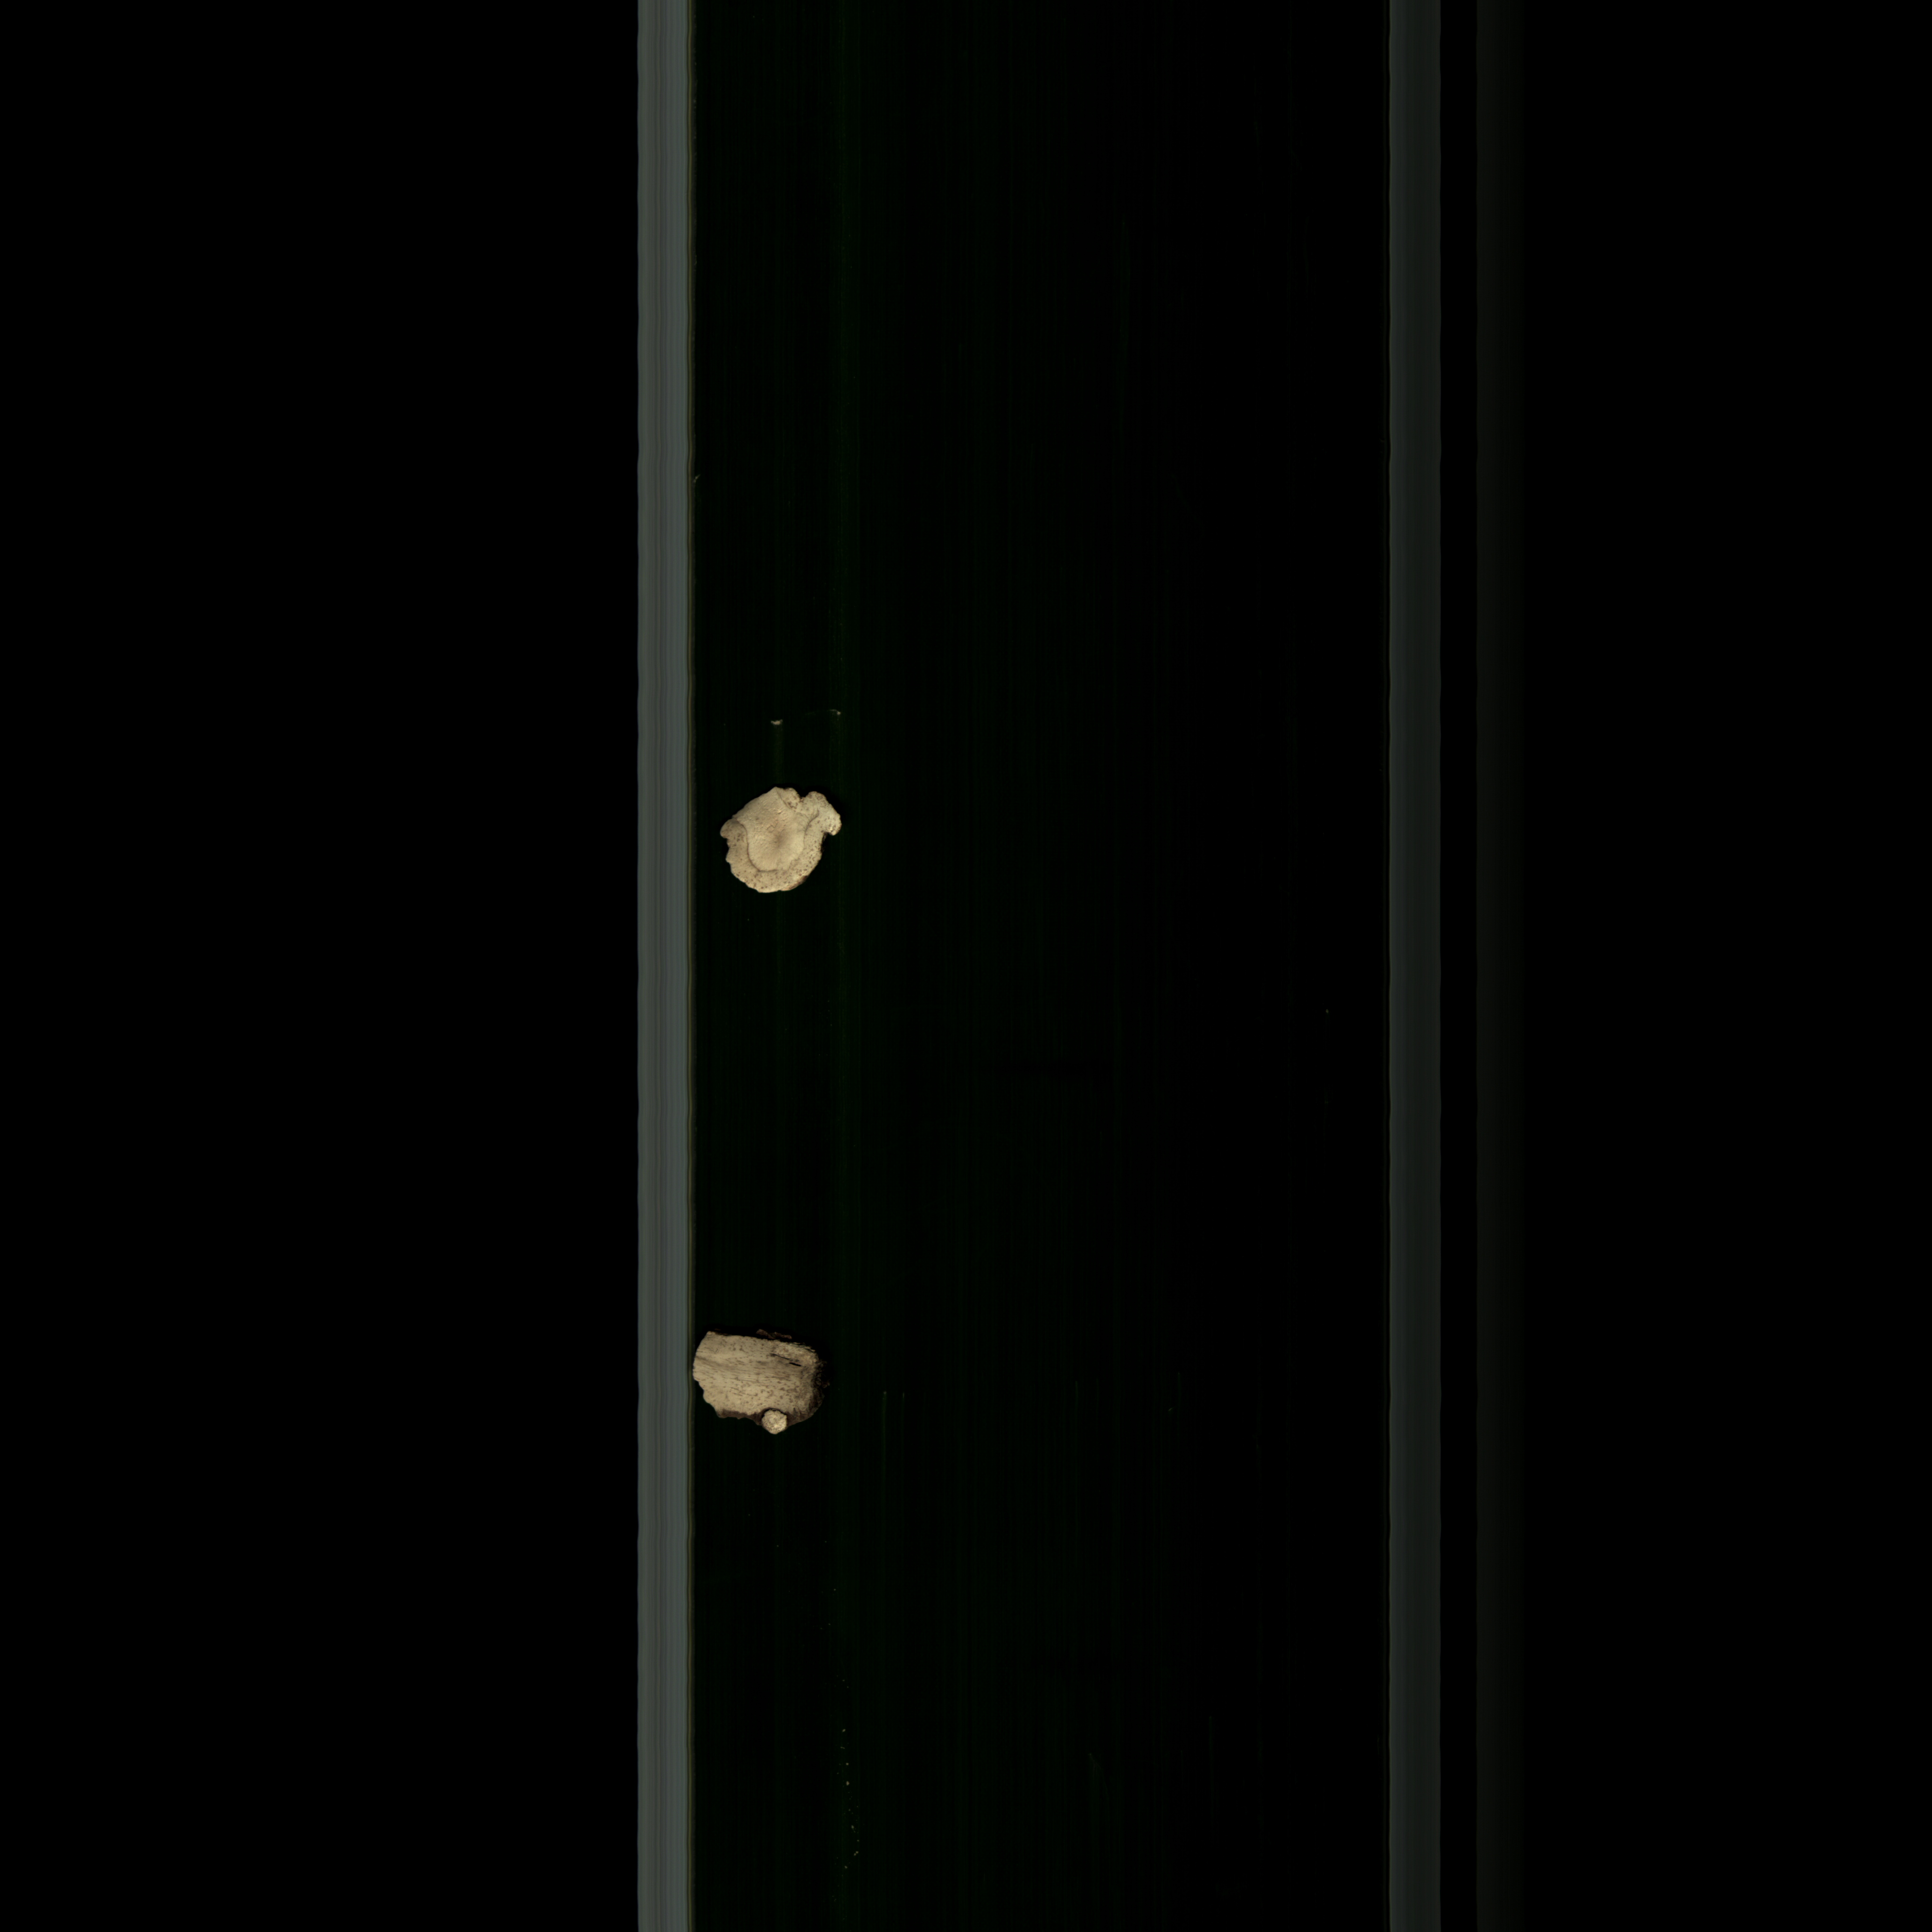debris: (709, 771, 858, 908), (694, 1320, 828, 1447)
dreg: (768, 709, 793, 731)
